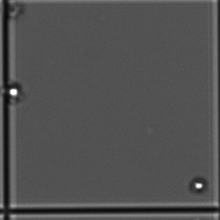Dead Cell: (5, 1, 27, 20)
Living Cell: (188, 175, 209, 194), (5, 82, 24, 100)
